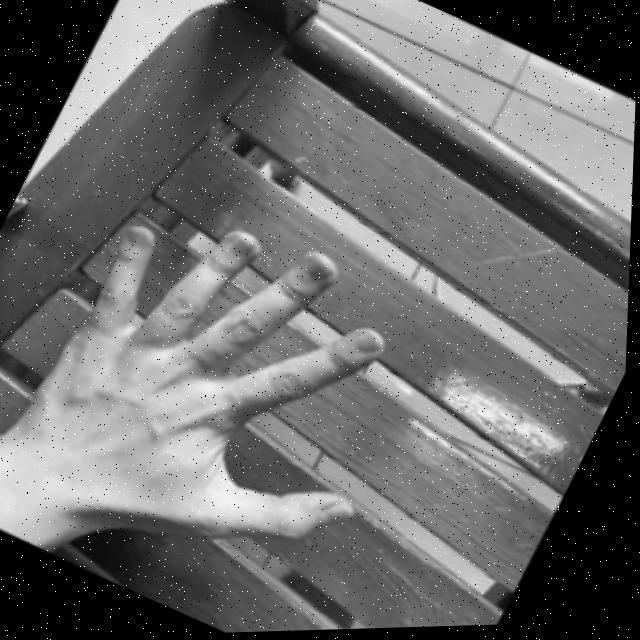no-gloves: (0, 168, 462, 622)
